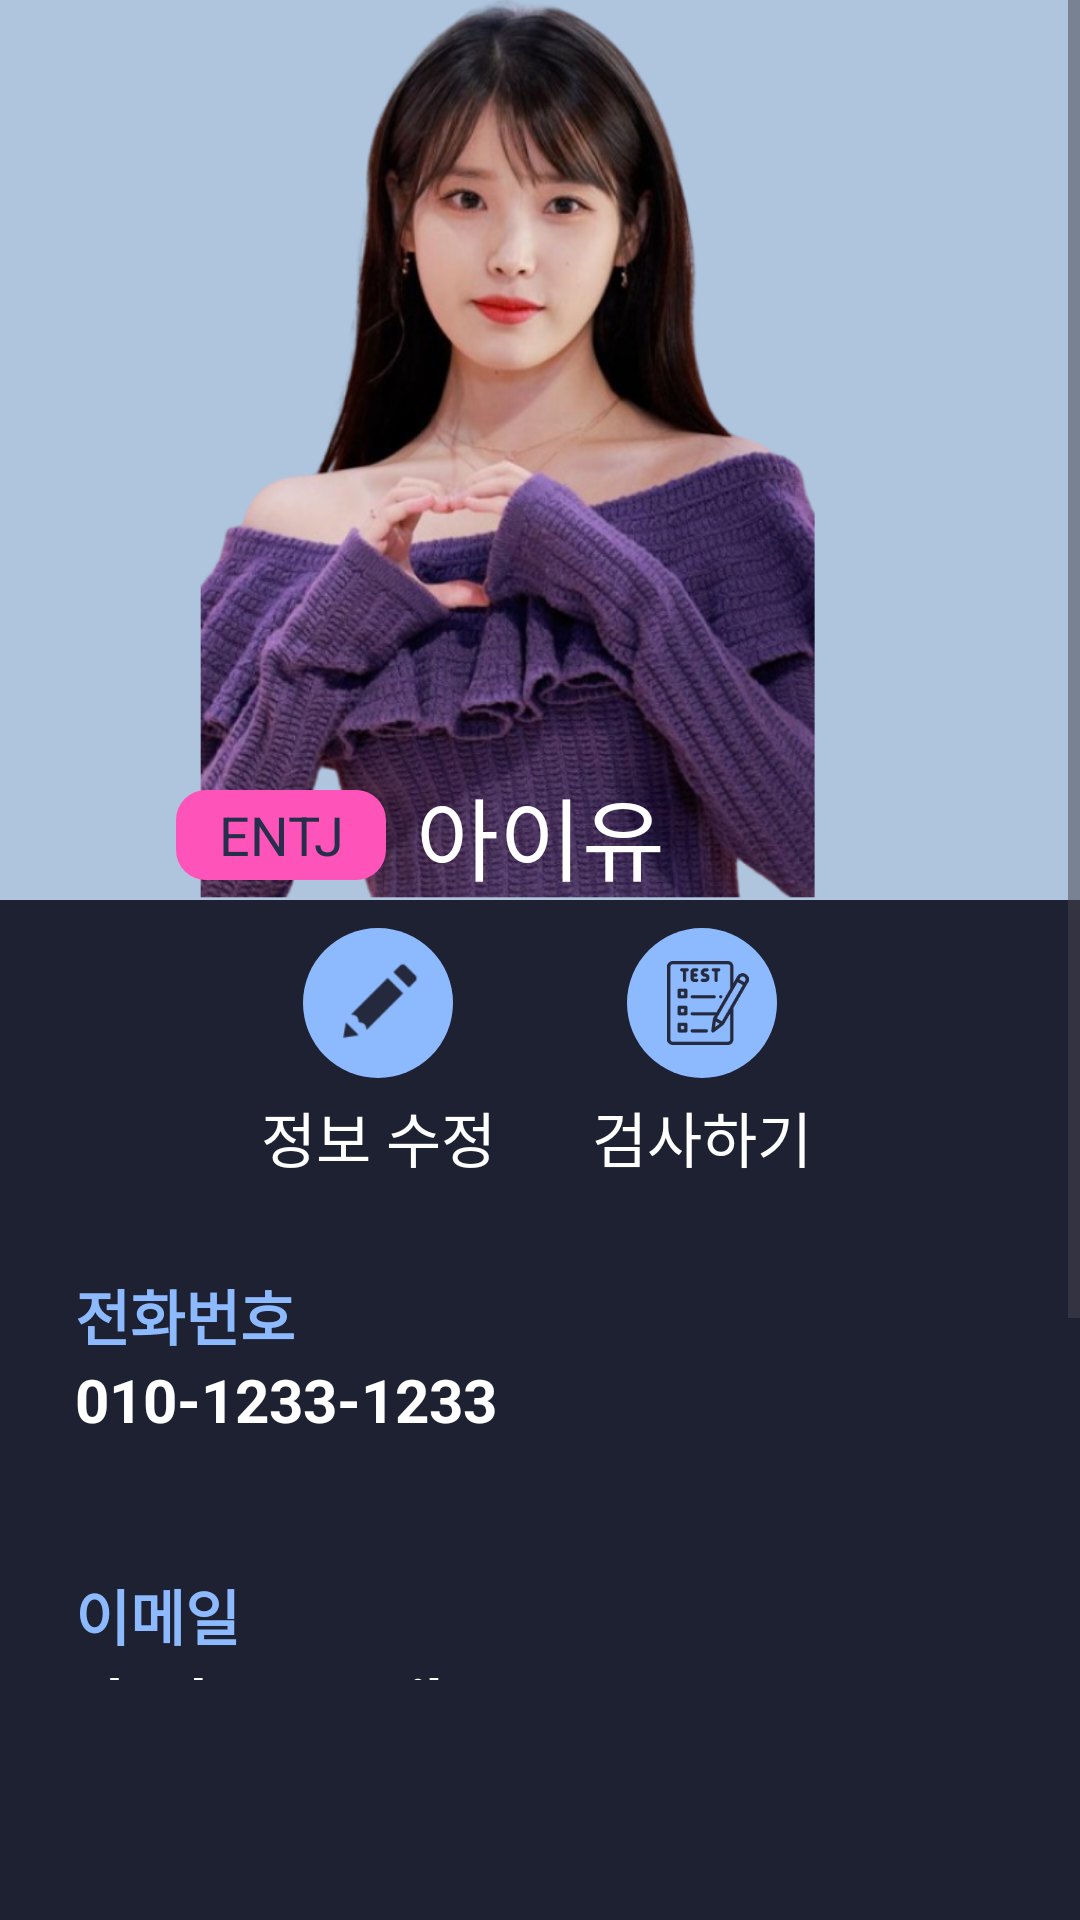

Icons on this 1080px×1920px Android screen, each with its box as Rect(x1, y1, x2, y2):
pencil: Rect(303, 928, 453, 1078)
